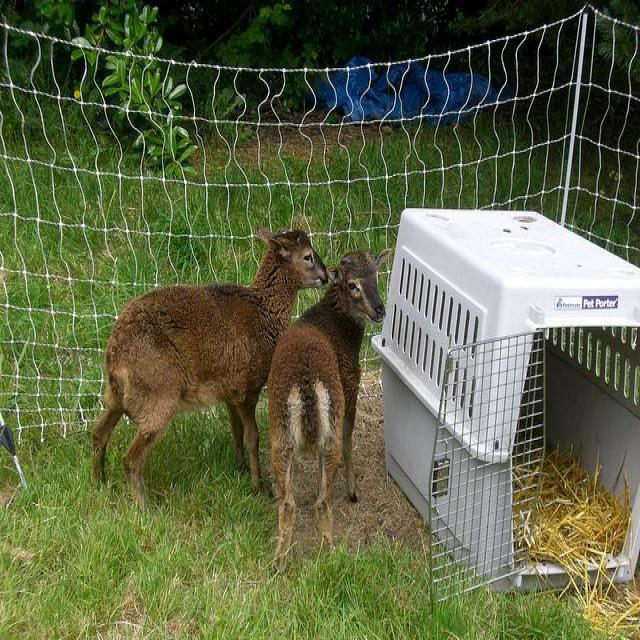Sheep: (93, 228, 329, 516), (265, 239, 399, 577)
